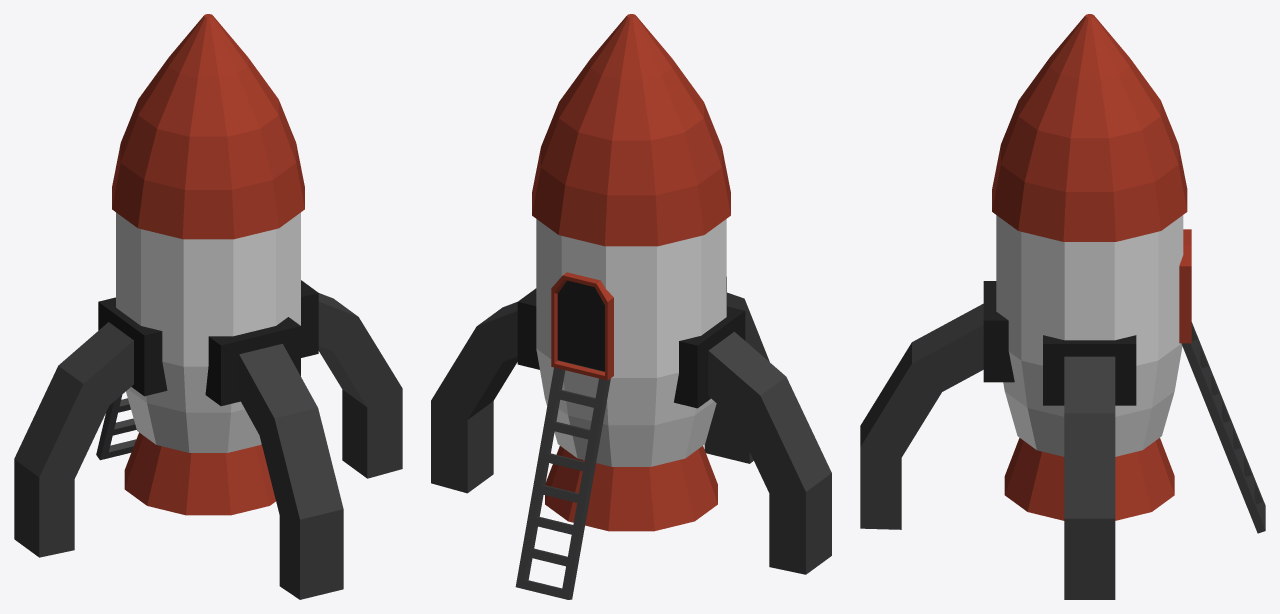
File: Rocket.gltf
3 views of the same model, side by side, from view 1: azimuth 30°, elevation 25°; view 2: azimuth 150°, elevation 25°; view 3: azimuth 270°, elevation 25° (orthographic). The views are drawn at different scales.
Visible parts, largest first — view 1: tube (×3), cylinder (×2), Cone, cuboid (×4); view 2: cylinder (×2), Cone, tube (×3), cuboid (×5), Door, DoorFrame; view 3: cylinder (×2), Cone, tube (×2), cuboid (×4), DoorFrame.
Boxes of the visible parts, x1=… form: tube (×3): x1=14, y1=293, x2=402, y2=599; cylinder (×2): x1=116, y1=212, x2=300, y2=515; Cone: x1=112, y1=14, x2=304, y2=239; cuboid (×4): x1=97, y1=280, x2=318, y2=455; cylinder (×2): x1=536, y1=219, x2=726, y2=531; Cone: x1=532, y1=14, x2=730, y2=246; tube (×3): x1=431, y1=292, x2=831, y2=574; cuboid (×5): x1=515, y1=288, x2=745, y2=599; Door: x1=557, y1=280, x2=604, y2=371; DoorFrame: x1=551, y1=272, x2=613, y2=380; cylinder (×2): x1=996, y1=215, x2=1183, y2=520; Cone: x1=992, y1=14, x2=1187, y2=241; tube (×2): x1=860, y1=303, x2=1115, y2=599; cuboid (×4): x1=983, y1=281, x2=1263, y2=527; DoorFrame: x1=1179, y1=229, x2=1191, y2=343.
Bounding box in the file's own units: 0.625 × 0.8199 × 0.5963.
4 materials, 4 textured.
